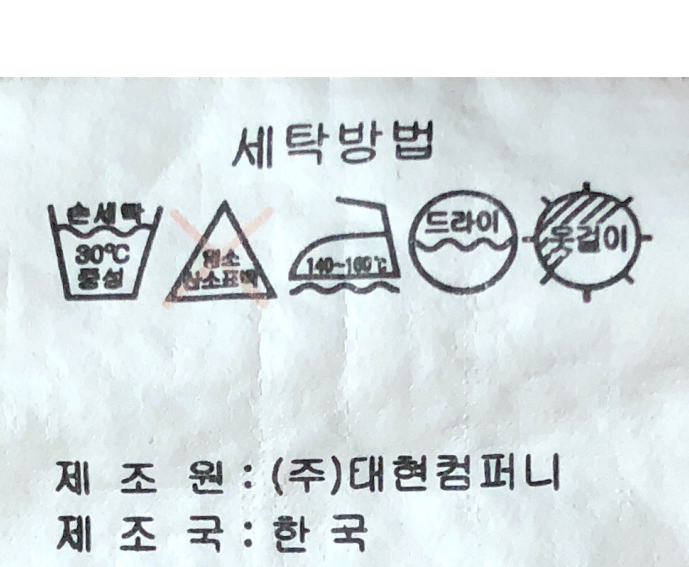KR_dry_clean: (408, 184, 518, 305)
KR_hand_wash_30_neutral: (42, 187, 160, 305)
KR_hang_dry_in_shade: (530, 183, 645, 296)
KR_iron_medium_temp_with_cloth: (287, 192, 404, 301)
KR_no_bleach: (165, 193, 277, 310)
